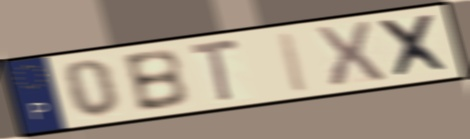0: (61, 56, 125, 121)
B: (118, 47, 192, 115)
I: (274, 29, 313, 96)
T: (186, 36, 243, 106)
X: (373, 12, 456, 81), (311, 19, 390, 91)
